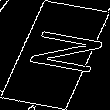N_E: (8, 29, 102, 81)
